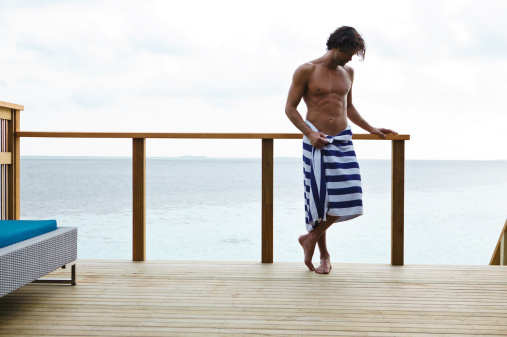em pe: (273, 19, 391, 281)
